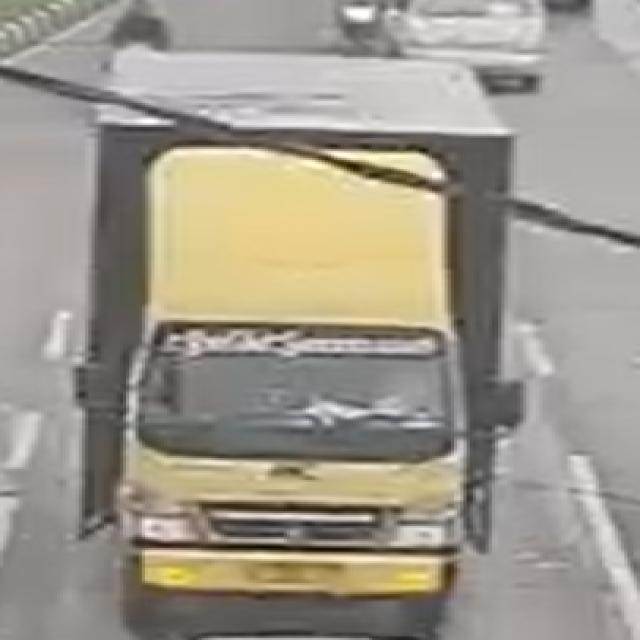truck: (39, 28, 588, 624)
